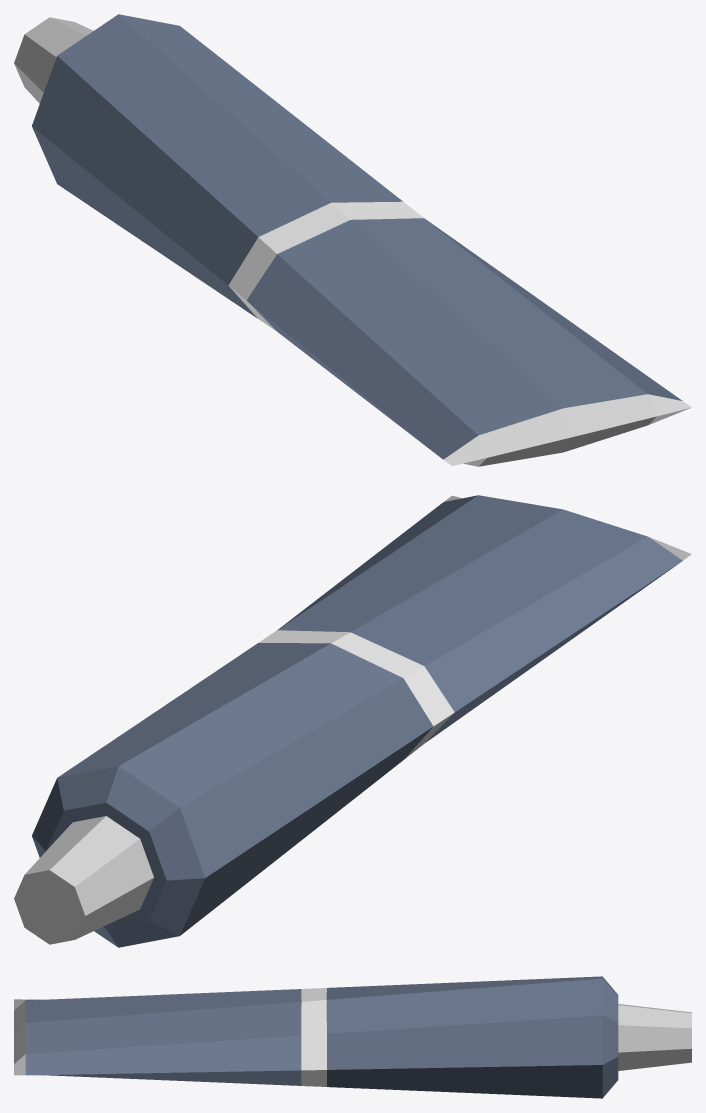
The model's file is Toothpaste_01.fbx.
3 views of the same model, one above another, from view 1: azimuth 30°, elevation 25°; view 2: azimuth 150°, elevation 25°; view 3: azimuth 270°, elevation 25° (orthographic). The views are drawn at different scales.
Parts seen in each view (by area): view 1: Toothpaste_01; view 2: Toothpaste_01; view 3: Toothpaste_01.
Boxes of the visible parts, <box> form: Toothpaste_01: <box>14,14,691,466</box>; Toothpaste_01: <box>14,495,691,947</box>; Toothpaste_01: <box>14,976,691,1098</box>.
Size of the model in its own units: 5.41 by 3.92 by 20.42.
